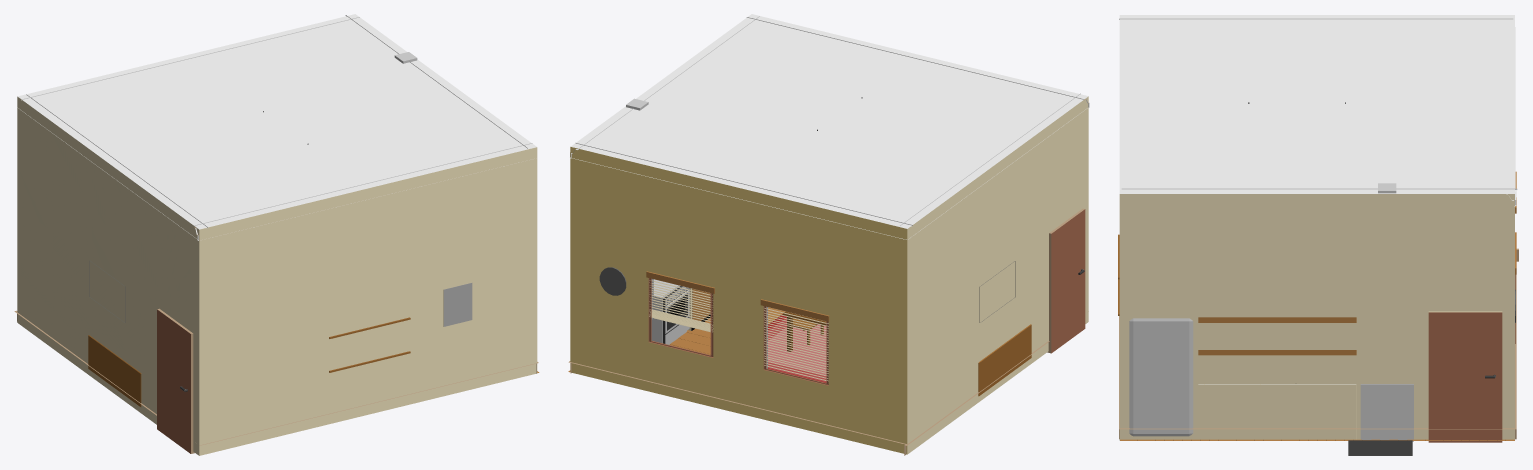
File: pens_Board.fbx
3 views of the same model, side by side, from view 1: azimuth 30°, elevation 25°; view 2: azimuth 150°, elevation 25°; view 3: azimuth 270°, elevation 25° (orthographic). The views are drawn at different scales.
Parts seen in each view (by area): view 1: Kitchen, Door, Edges, Little Cabinet.001, Text.038; view 2: Kitchen, Door, Blinders, Edges, Carpet, Blinders.001, Little Cabinet.001, Stove, Floor, Clock, Little Cabinet; view 3: Kitchen, Little Cabinet, Door.001, Fridge, Stove, Edges, Door Mat.001, Floor.
Part boxes in pixels (x1,y1,x2,y2): Kitchen: [17, 14, 537, 455]; Door: [157, 308, 194, 453]; Edges: [14, 15, 538, 445]; Little Cabinet.001: [88, 335, 141, 406]; Text.038: [443, 283, 472, 326]; Kitchen: [570, 14, 1088, 454]; Door: [1047, 208, 1085, 353]; Blinders: [760, 299, 829, 381]; Edges: [568, 16, 1089, 455]; Carpet: [768, 314, 826, 382]; Blinders.001: [646, 271, 714, 332]; Little Cabinet.001: [978, 324, 1031, 396]; Stove: [626, 98, 689, 344]; Floor: [568, 307, 1045, 439]; Clock: [599, 267, 626, 295]; Little Cabinet: [688, 288, 710, 330]; Kitchen: [1119, 15, 1515, 439]; Little Cabinet: [1198, 317, 1356, 439]; Door.001: [1428, 311, 1502, 442]; Fridge: [1129, 318, 1193, 436]; Stove: [1360, 183, 1413, 441]; Edges: [1119, 18, 1518, 439]; Door Mat.001: [1348, 440, 1412, 455]; Floor: [1119, 439, 1514, 440].
Bounding box in the file's own units: 696 × 409 × 593.
Materials: 10 (10 with a texture image).
